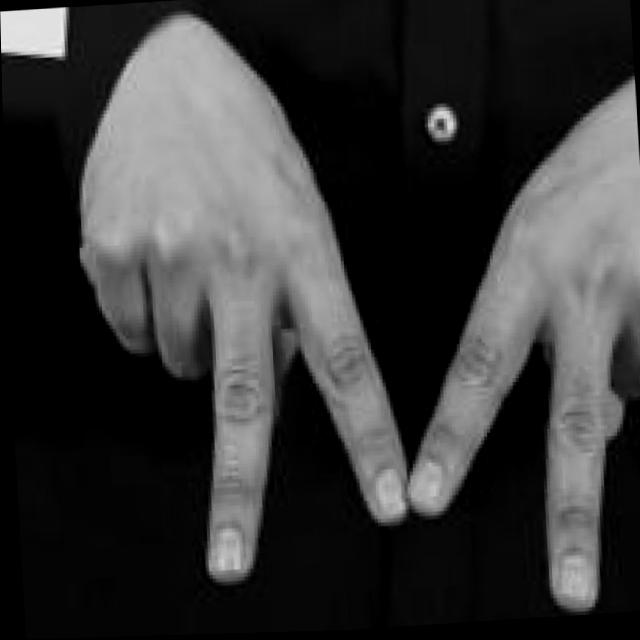M: (74, 0, 640, 638)
